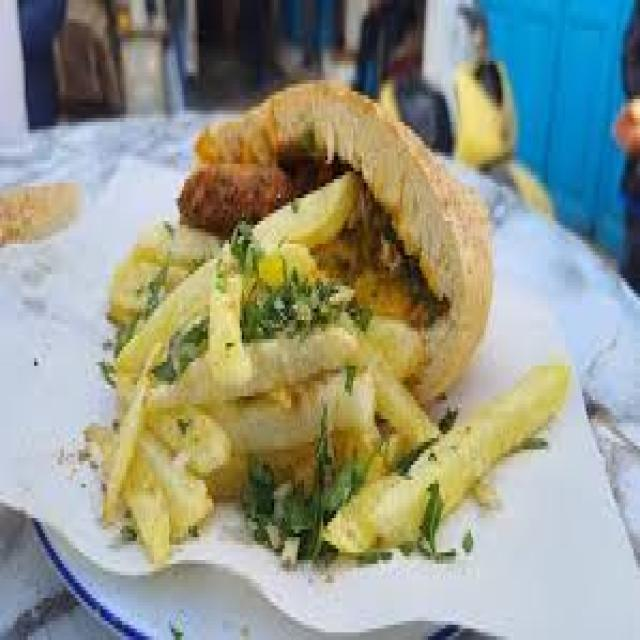Sandwitch tounsi: (127, 90, 525, 453)
